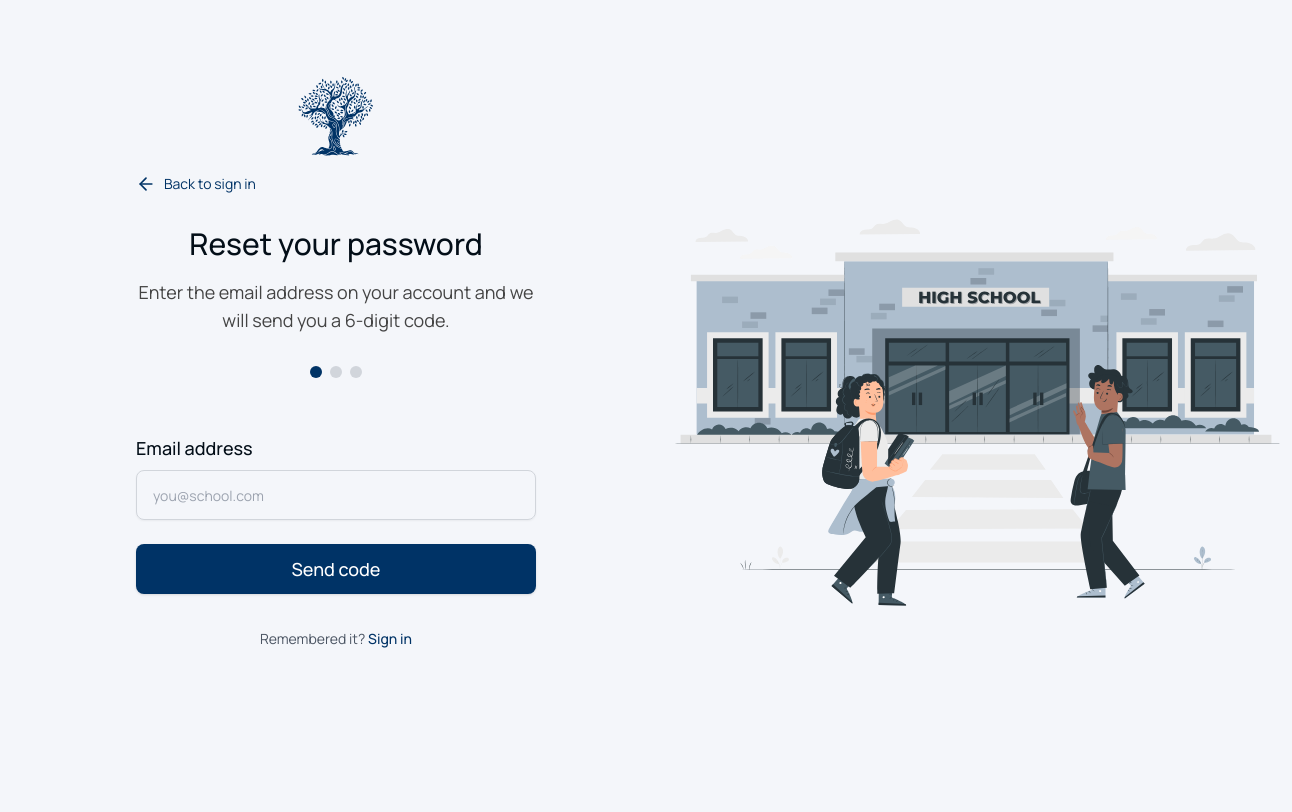
ForgotPasswordPage › steps back with the Back button, and from the first step to sign in
Type "ada@school.test" into the field labelled "Email address" at coordinates (336, 495), box [136, 470, 536, 520]
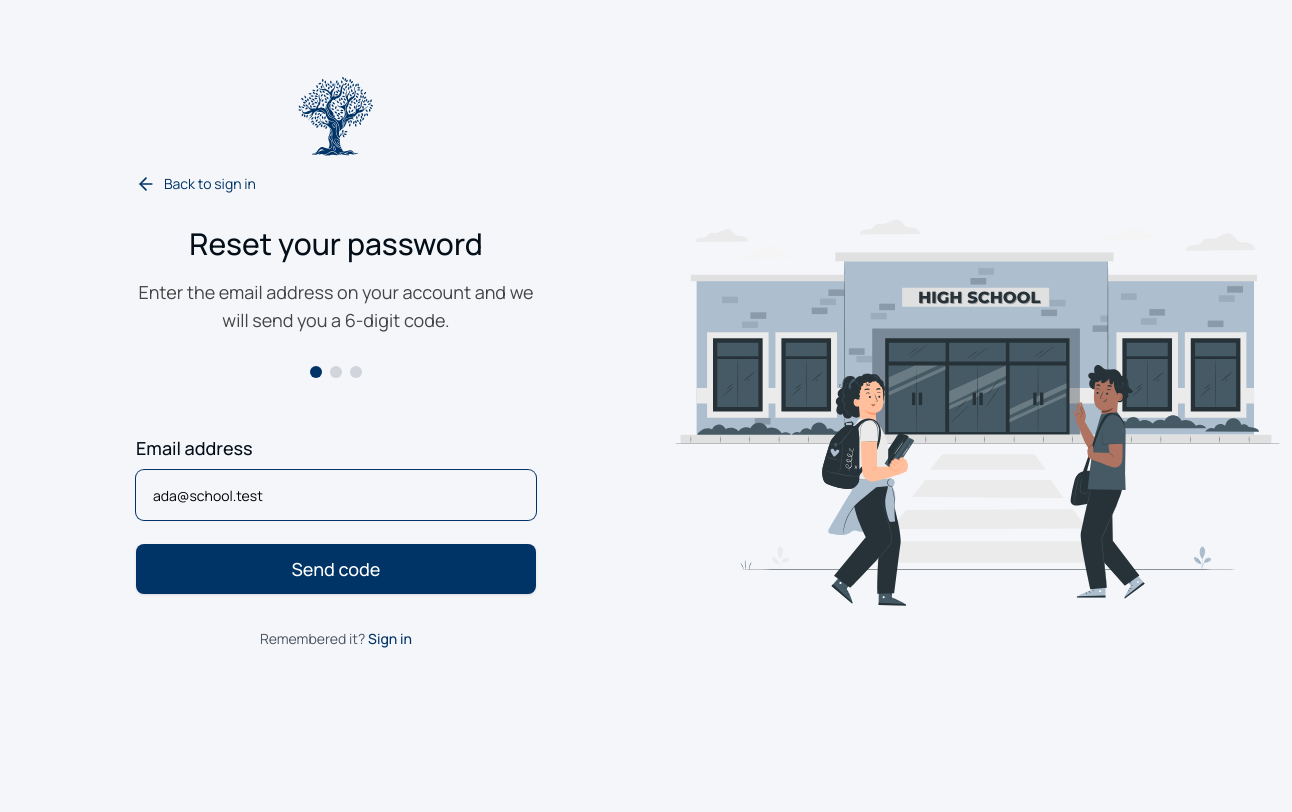
Click the button "Send code" at coordinates (336, 569), box [136, 544, 536, 594]
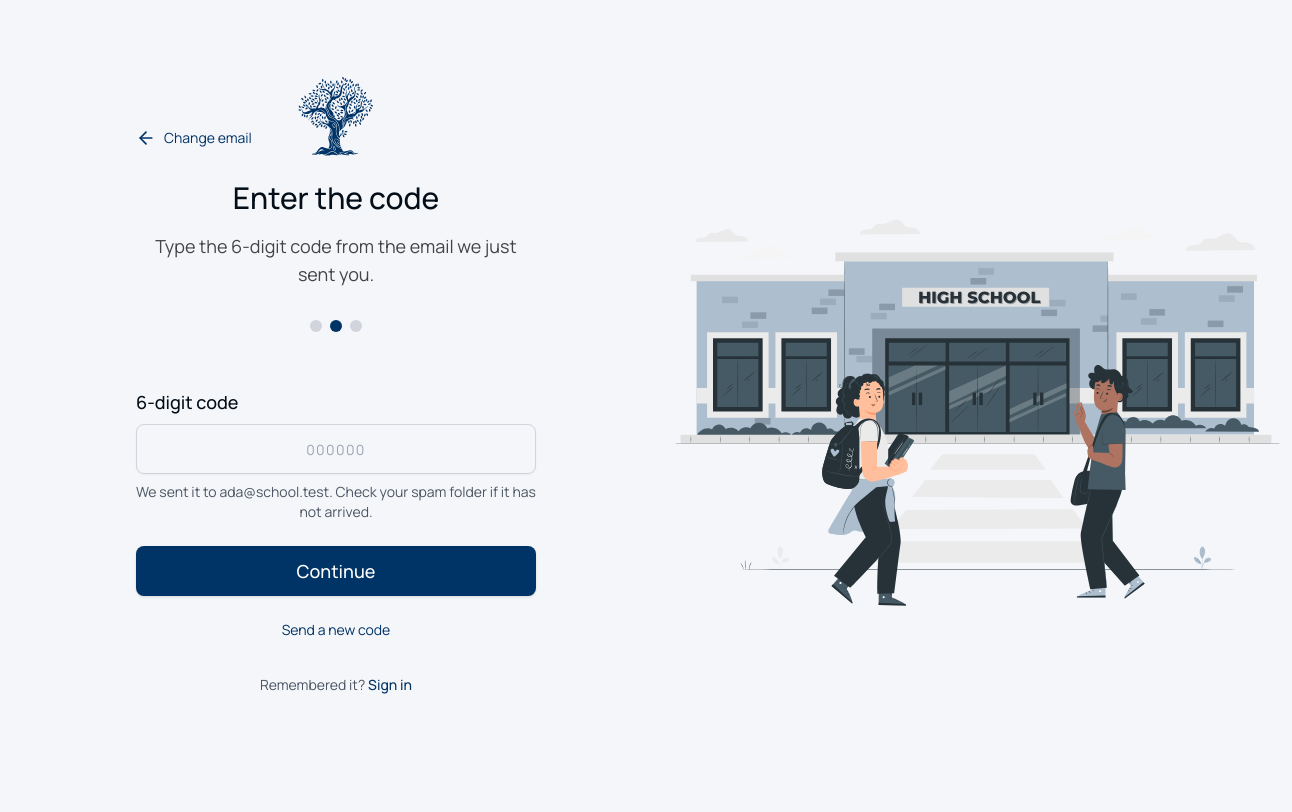
Click the button "Change email" at coordinates (194, 138), box [136, 116, 252, 160]
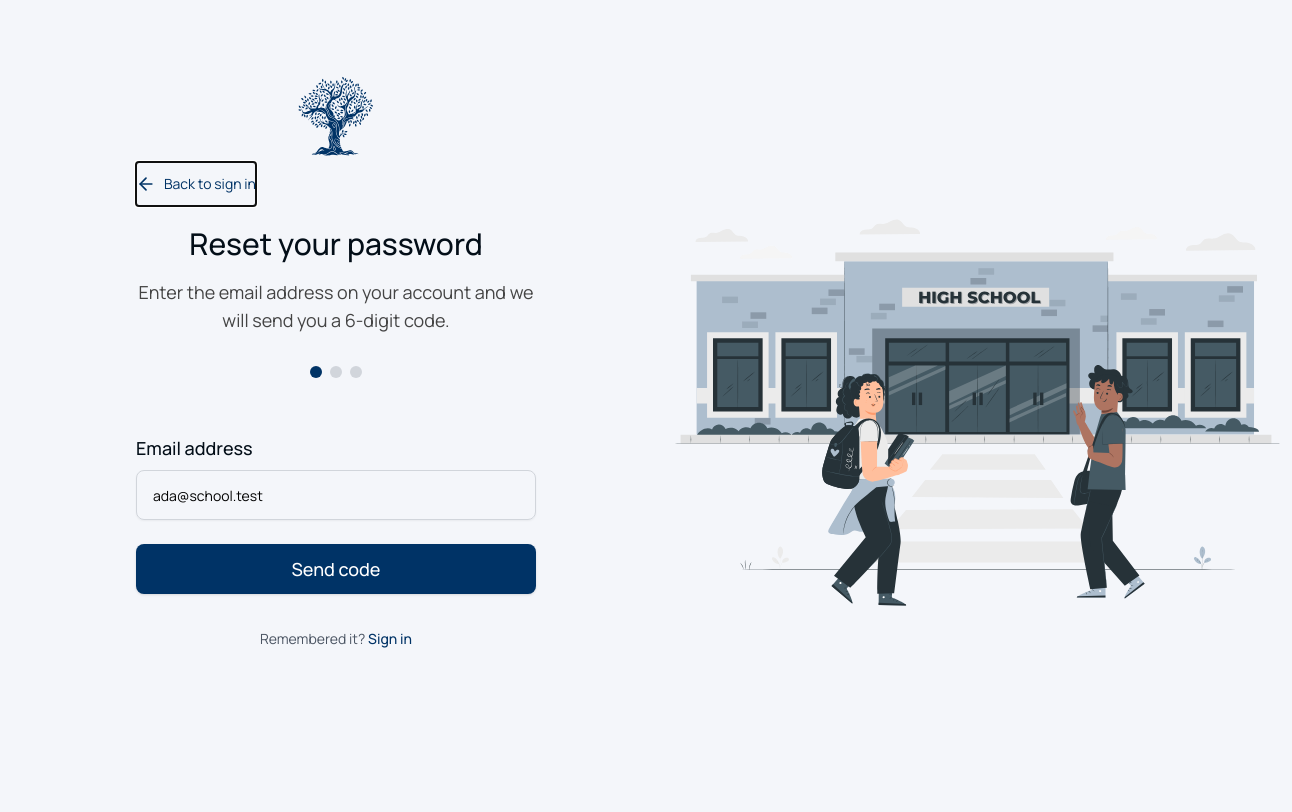
Now the heading "Reset your password" is shown, box [189, 223, 483, 264]
Now the field labelled "Email address" holds "ada@school.test", box [136, 470, 536, 520]
